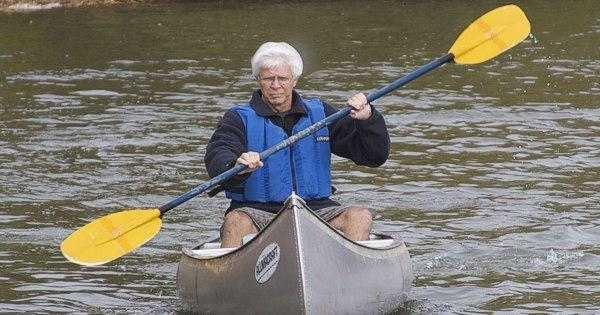kayak: (175, 195, 419, 312)
